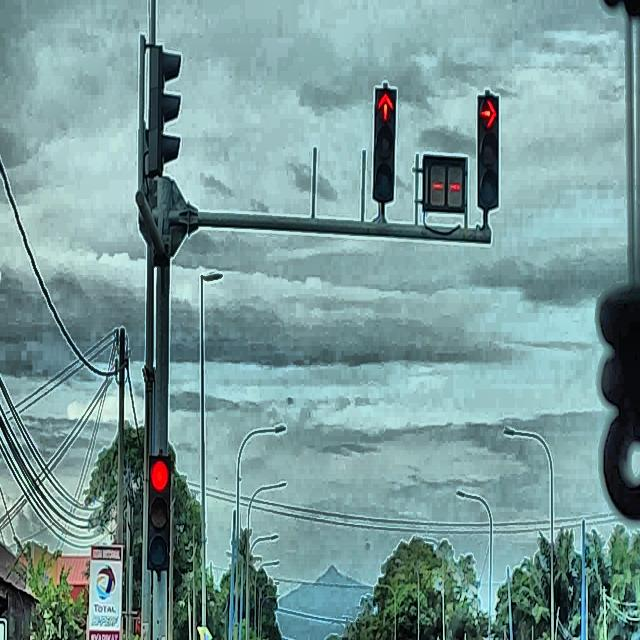red: (146, 454, 171, 570), (372, 88, 396, 202), (477, 94, 500, 210)
